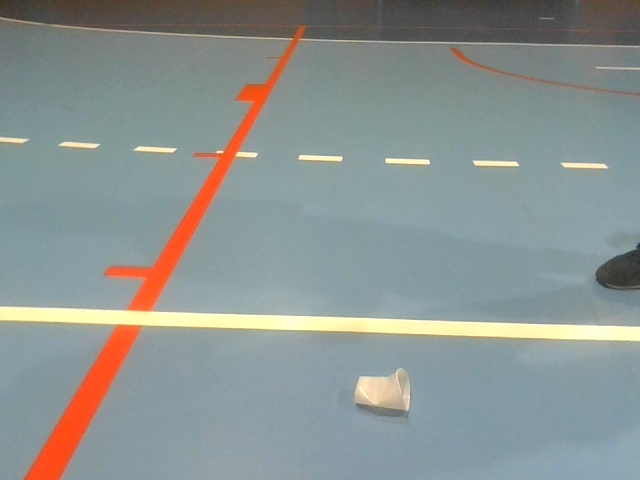plasticcup: (352, 368, 411, 414)
